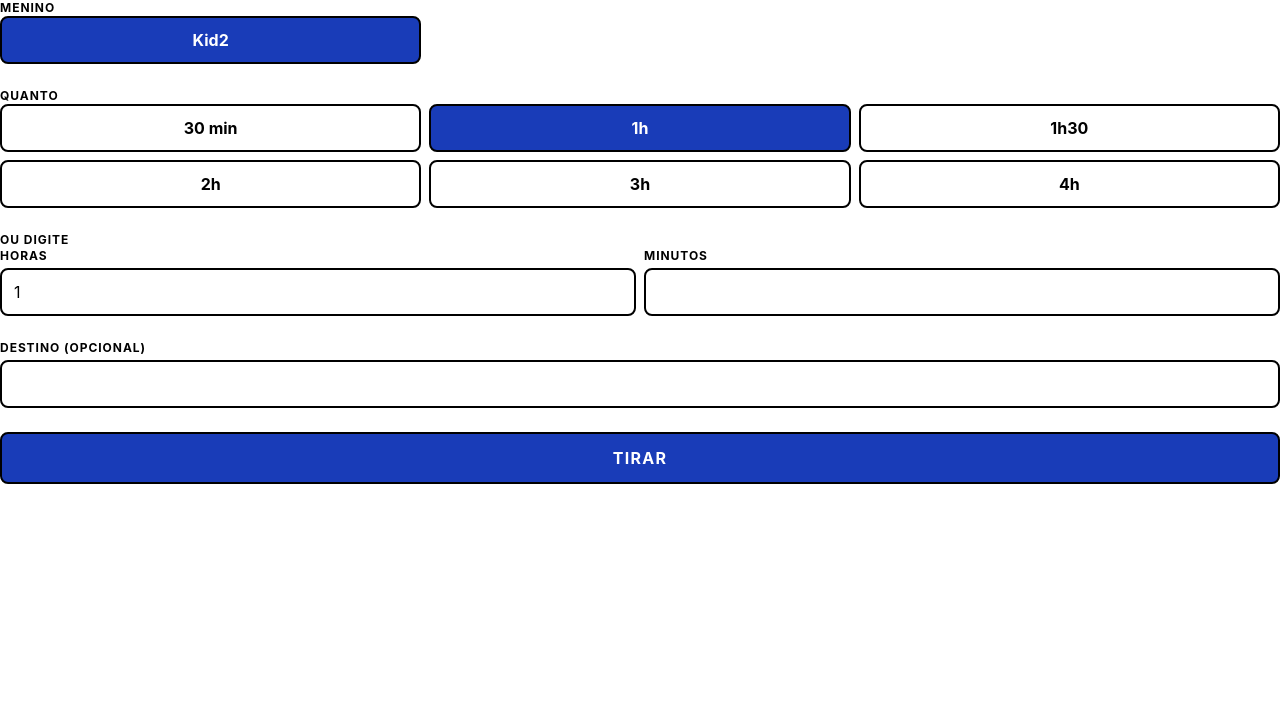
Test: the confirmation (D53) › writes once confirmed, closes, and says the balance the write left
The width and height of the screenshot is (1280, 720).
Click the button "Tirar" at (640, 458), box [0, 432, 1279, 484]
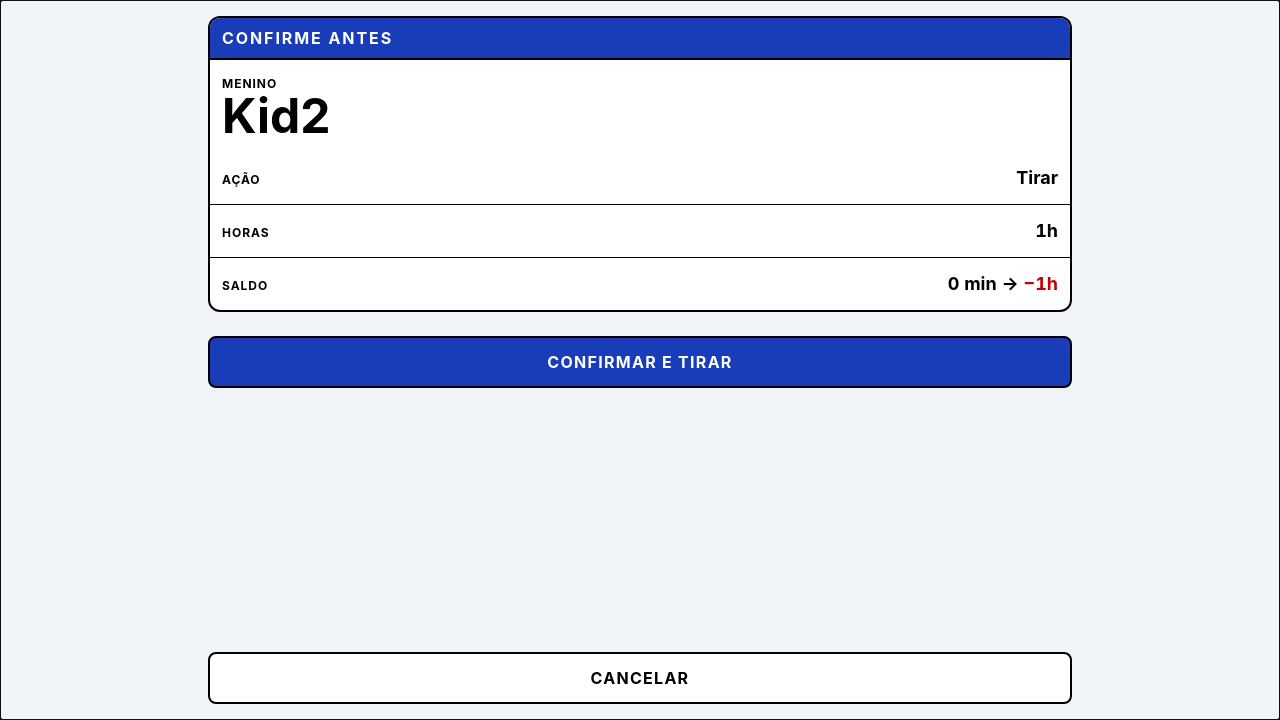
Click the button "Confirmar e tirar" at (640, 362), box [208, 336, 1072, 388]
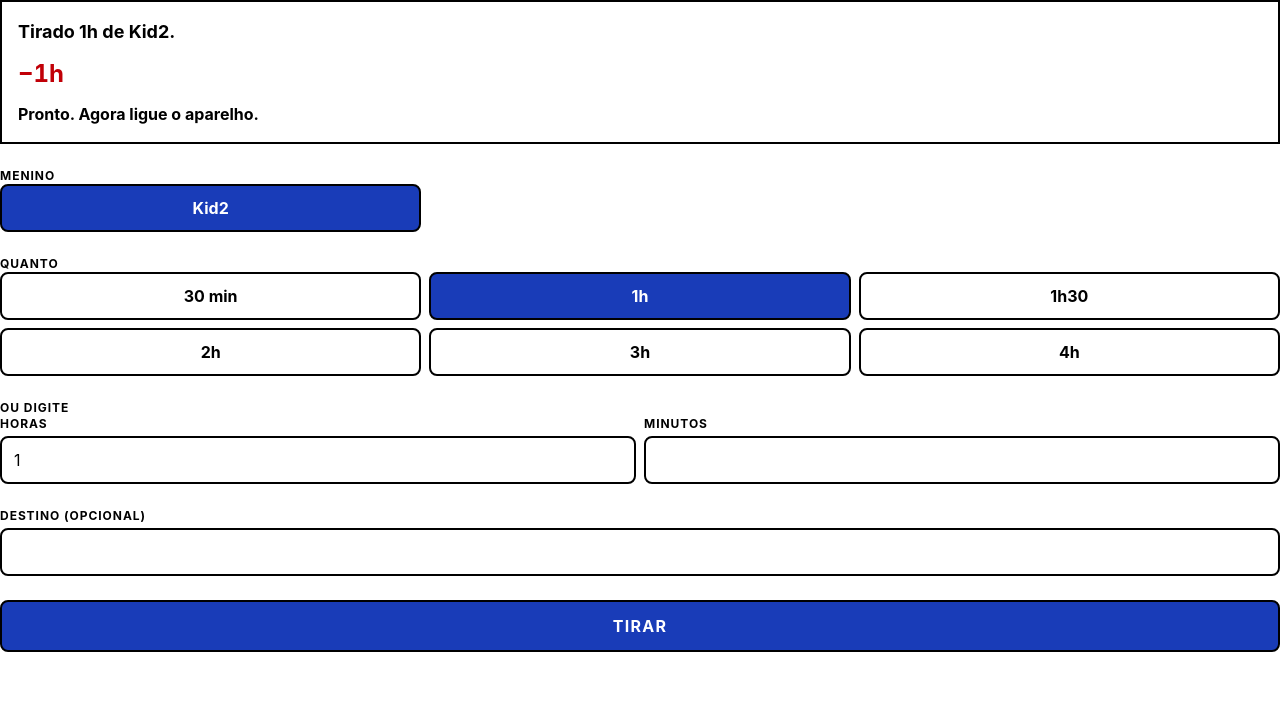
Check: the dialog is gone
Check: the text "Tirado 1h de Kid2." is shown, box [18, 21, 175, 42]
